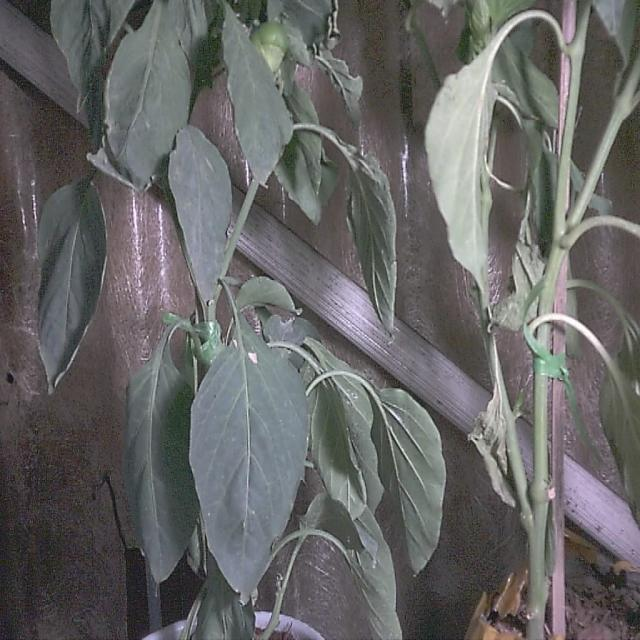Leaf: (190, 316, 308, 601), (124, 328, 198, 583), (424, 55, 497, 308), (38, 180, 106, 392), (222, 5, 293, 183), (169, 125, 231, 300)
